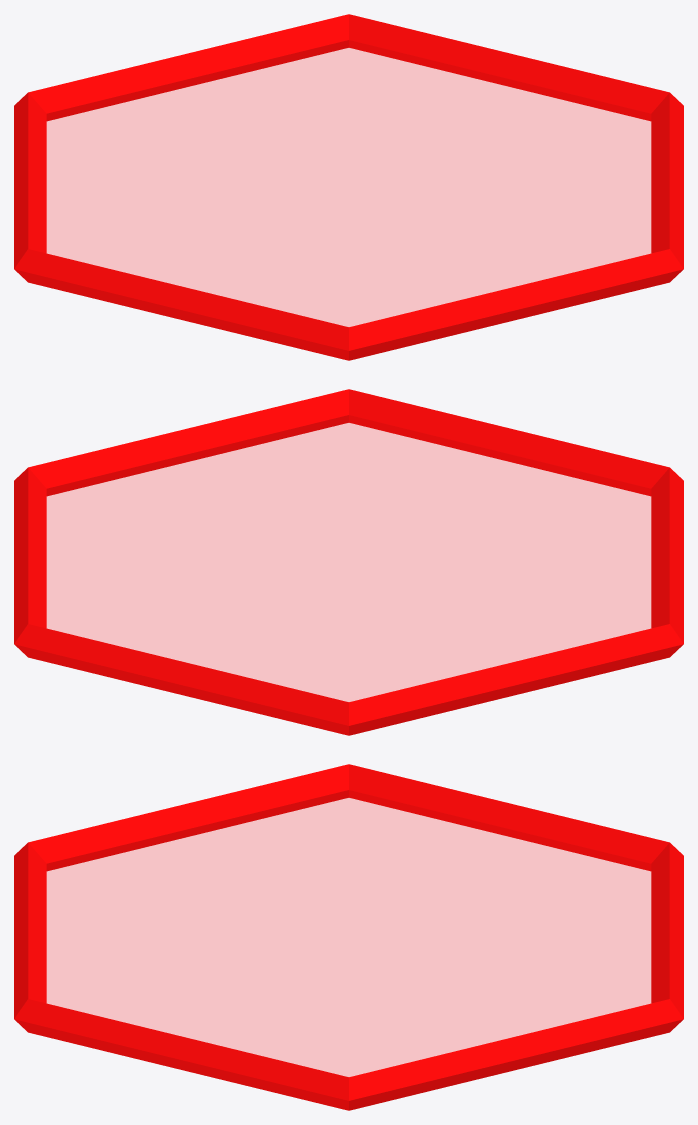
File: hexagon.glb
3 views of the same model, one above another, from view 1: azimuth 30°, elevation 25°; view 2: azimuth 150°, elevation 25°; view 3: azimuth 270°, elevation 25° (orthographic).
Visible parts, largest first — view 1: Hex; view 2: Hex; view 3: Hex.
Boxes of the visible parts, x1=… form: Hex: x1=14, y1=14, x2=683, y2=360; Hex: x1=14, y1=389, x2=683, y2=735; Hex: x1=14, y1=764, x2=683, y2=1110.
Size of the model in its own units: 2.09 by 0.1 by 1.81.
1 material, 1 textured.
